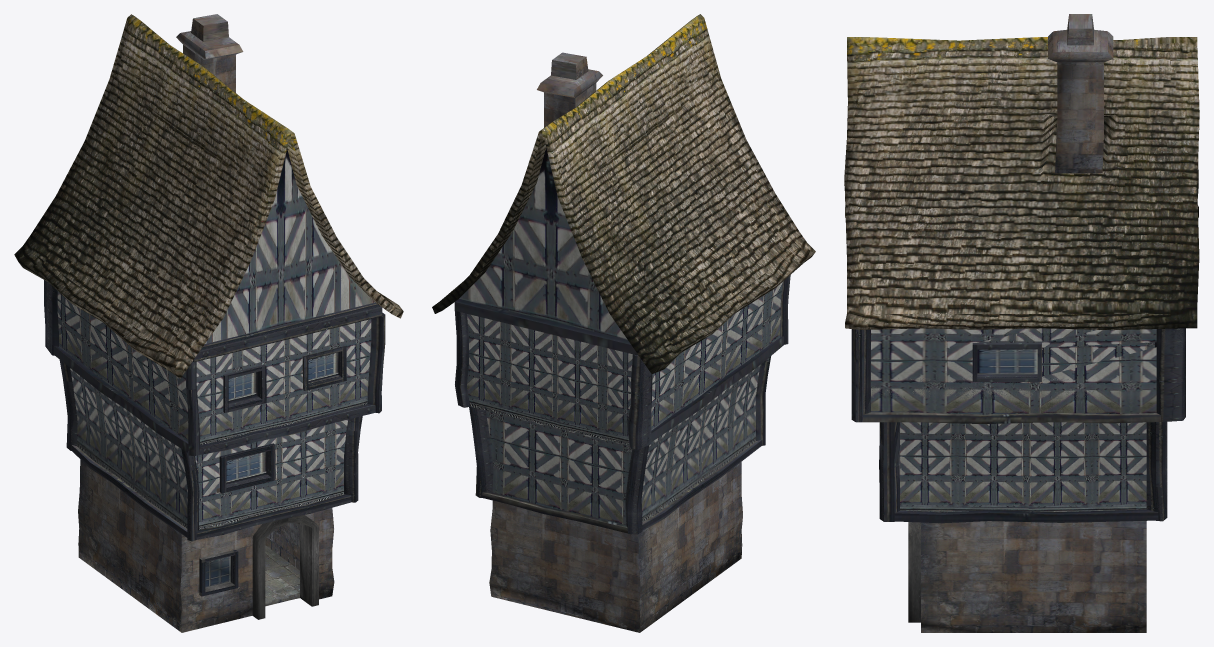
Rendered from medhouse2.fbx.
The picture shows the model from 3 angles, left to right: view 1: azimuth 30°, elevation 25°; view 2: azimuth 150°, elevation 25°; view 3: azimuth 270°, elevation 25°; orthographic projection. The views are drawn at different scales.
Parts seen in each view (by area): view 1: medhouse2, medhouse2_interior; view 2: medhouse2; view 3: medhouse2, medhouse2_interior.
Part boxes in pixels (<box>): medhouse2: <box>14,14,403,632</box>; medhouse2_interior: <box>199,515,318,619</box>; medhouse2: <box>432,14,815,632</box>; medhouse2: <box>844,14,1199,632</box>; medhouse2_interior: <box>908,522,920,622</box>.
Size of the model in its own units: 583 by 1266 by 695.
